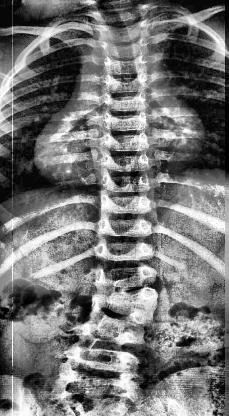Vertebrae: (60, 367, 138, 395), (70, 344, 138, 374), (96, 238, 155, 268), (76, 323, 138, 349), (94, 264, 156, 289), (93, 288, 158, 308), (84, 310, 154, 328), (97, 218, 153, 240), (98, 191, 150, 213), (102, 150, 152, 172), (101, 172, 153, 192), (102, 54, 152, 74), (102, 130, 152, 150), (100, 92, 148, 112), (98, 22, 150, 40), (100, 110, 150, 128), (105, 72, 149, 92), (102, 40, 146, 58)
